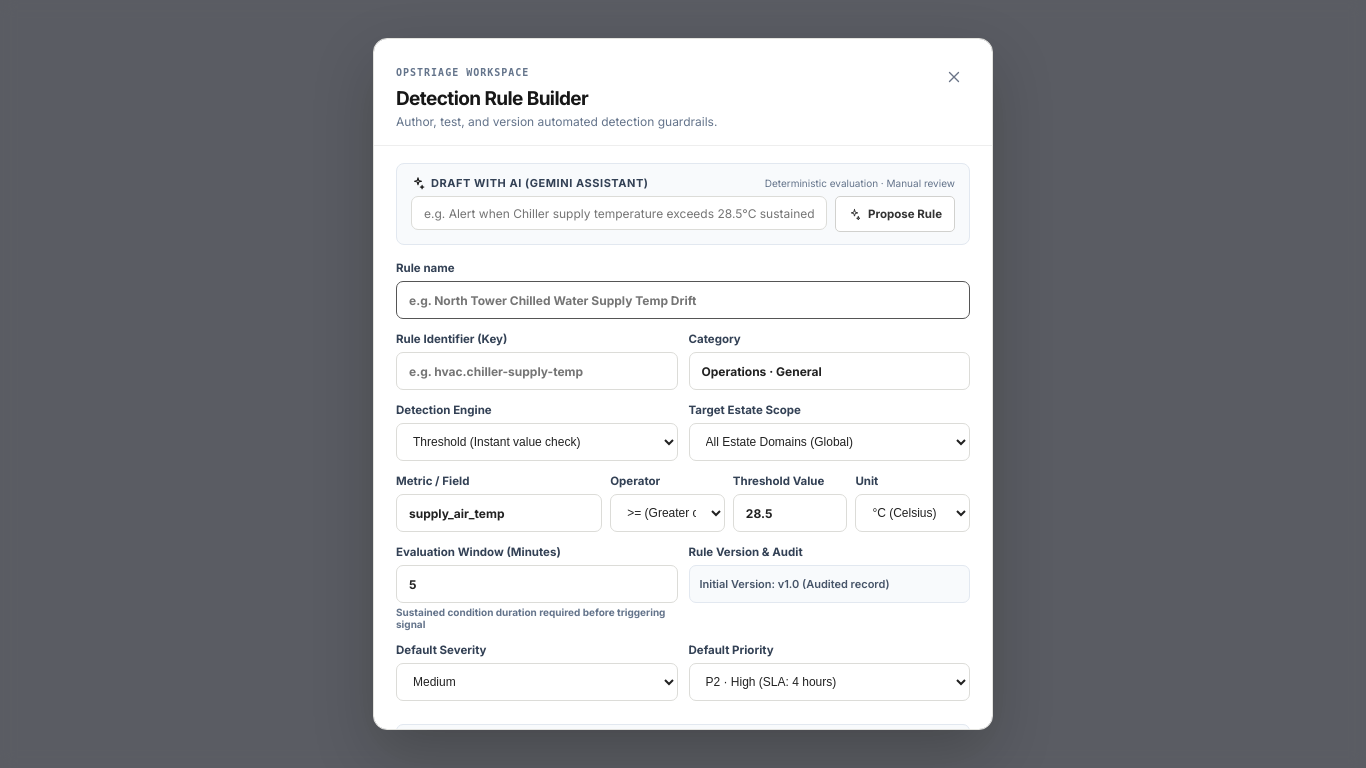
RecordDialog - Rule Condition Builder & AI Draft › validates duration window for rolling window engine
Type "Valid Rule Title" into the field with placeholder "e.g. North Tower Chilled Water Supply Temp Drift" at (683, 300), box x1=396 y1=281 x2=970 y2=319
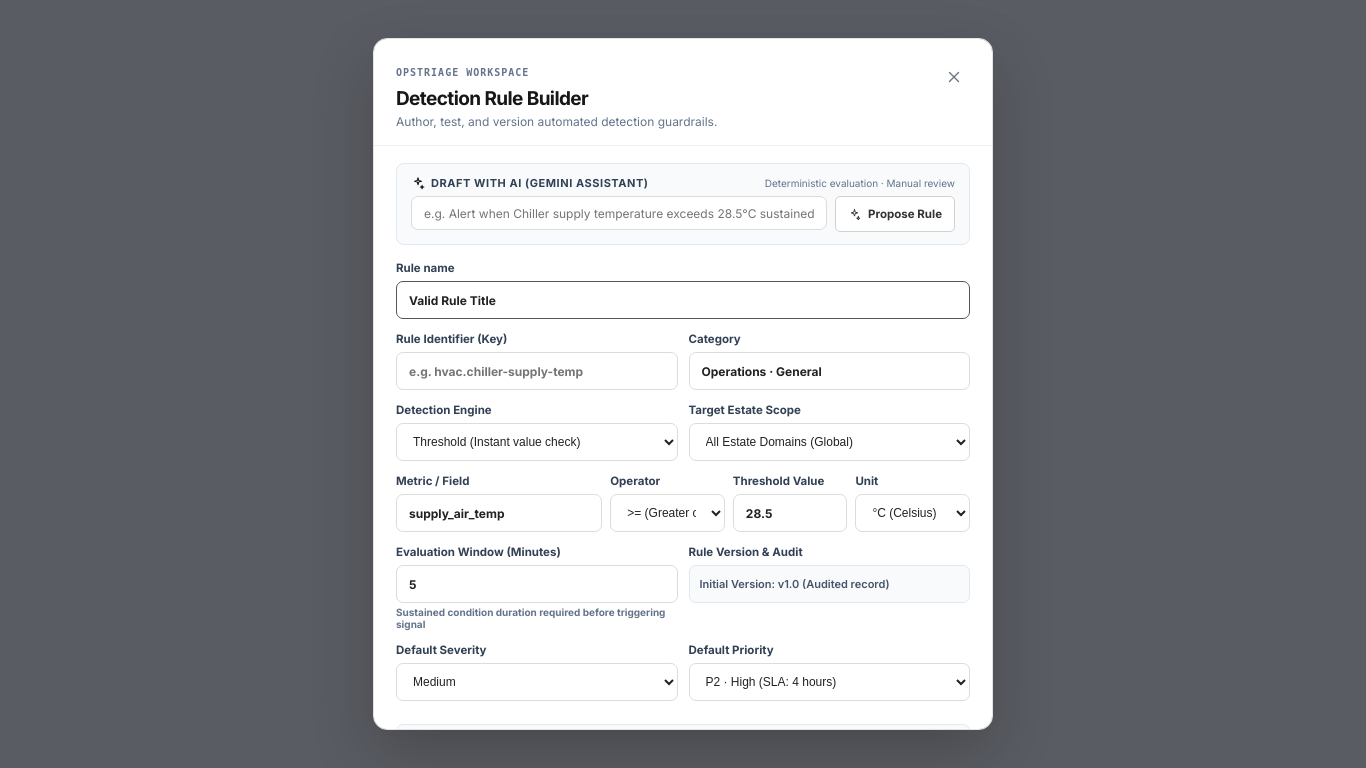
Select "Rolling Window (Time-window sustained)" in the dropdown labelled "Detection Engine" at (537, 442), box x1=396 y1=423 x2=678 y2=461
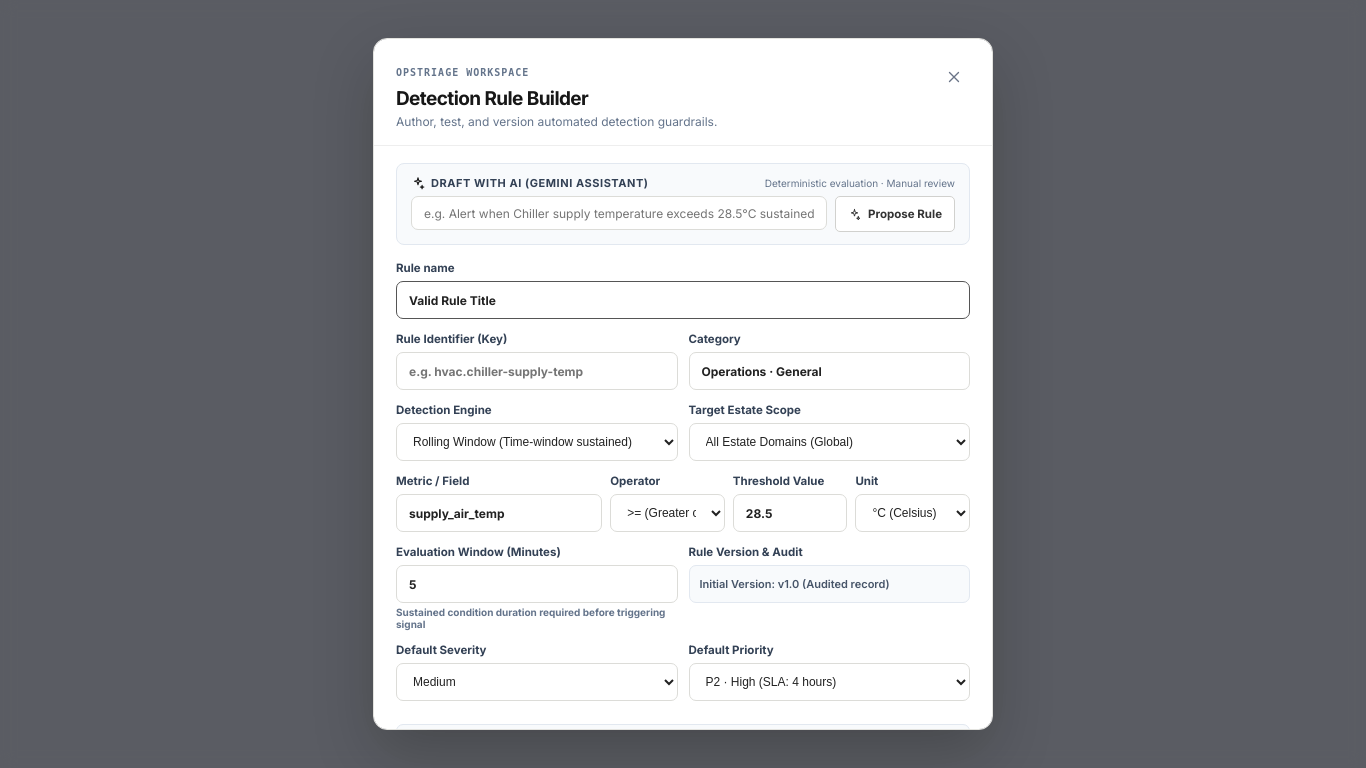
Replace the text in the number field labelled "Evaluation Window (Minutes)" with "0" at (537, 584), box x1=396 y1=565 x2=678 y2=603
(page scrolled)
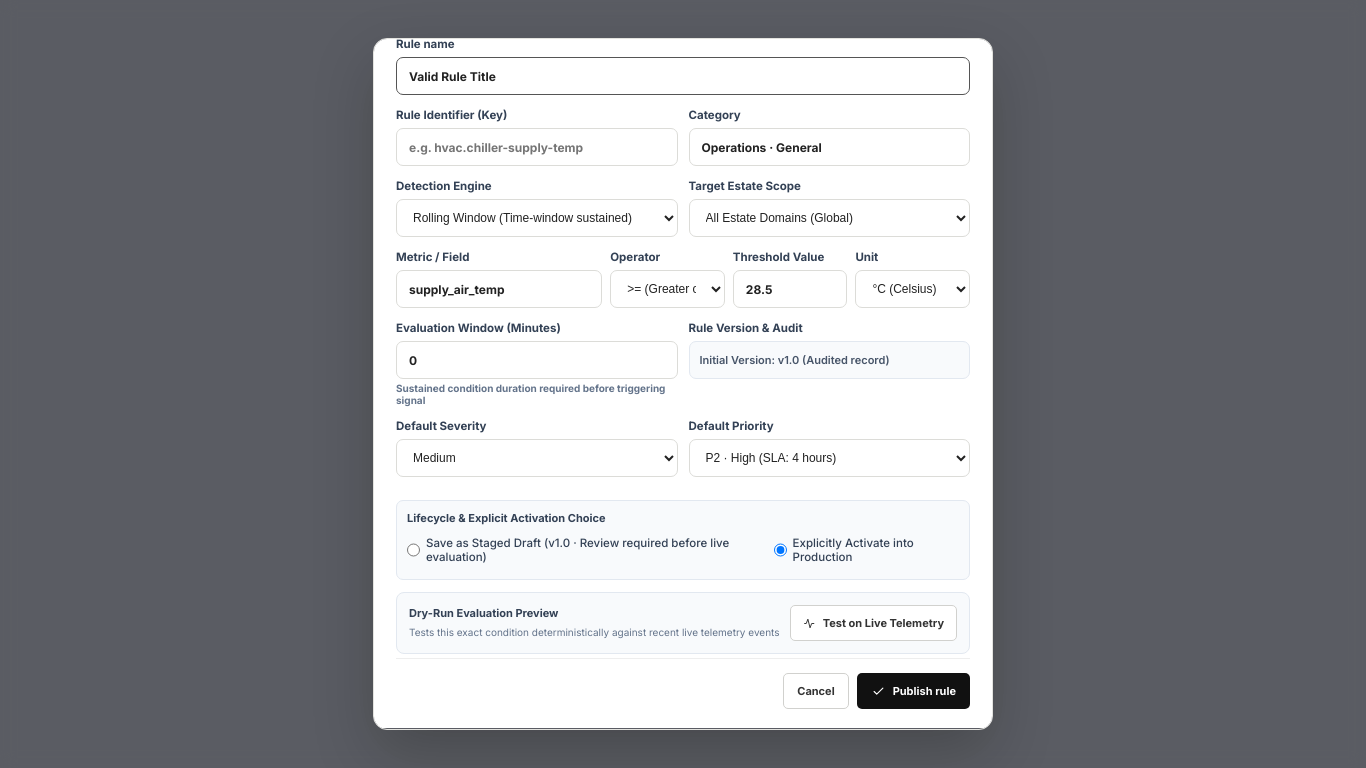
Click the button "Publish rule" at (913, 691), box x1=857 y1=673 x2=970 y2=709
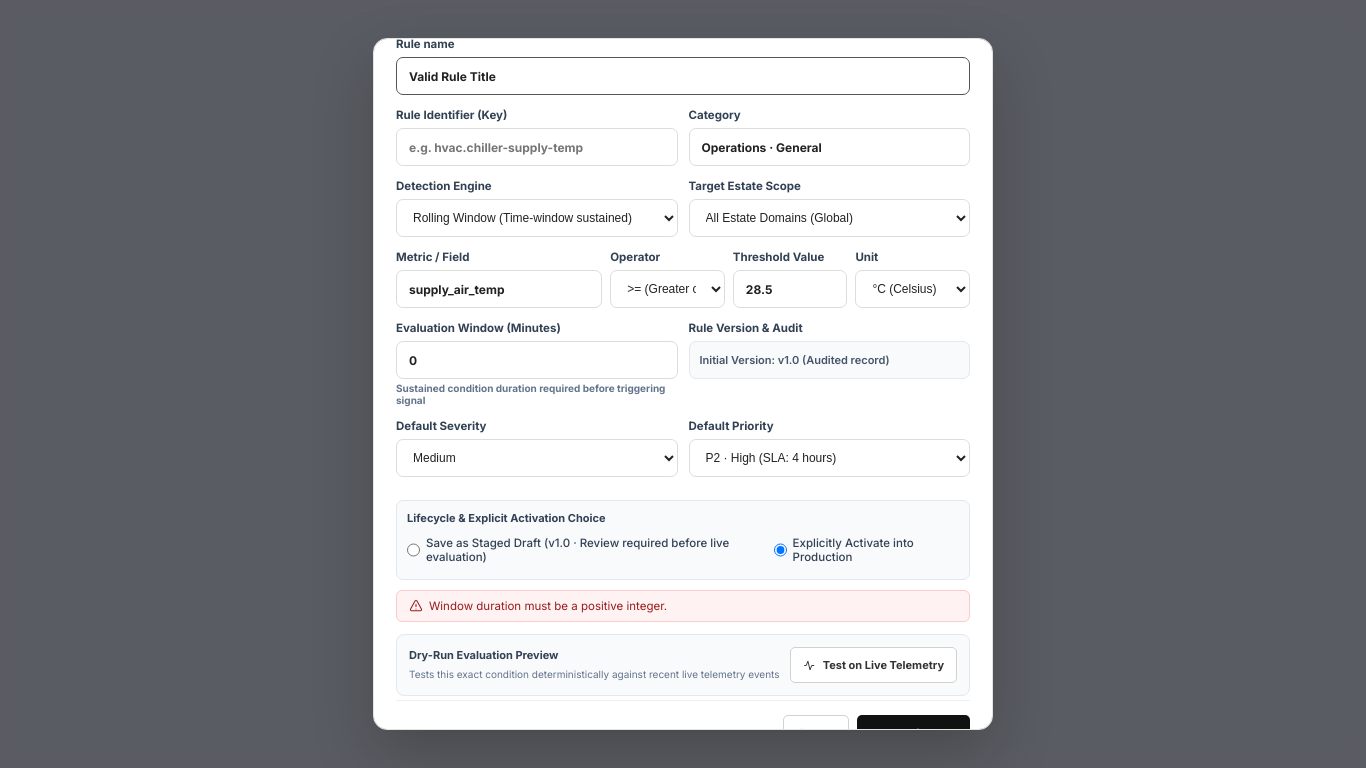
Check: the text "Window duration must be a positive integer." is shown, box x1=429 y1=599 x2=667 y2=613
